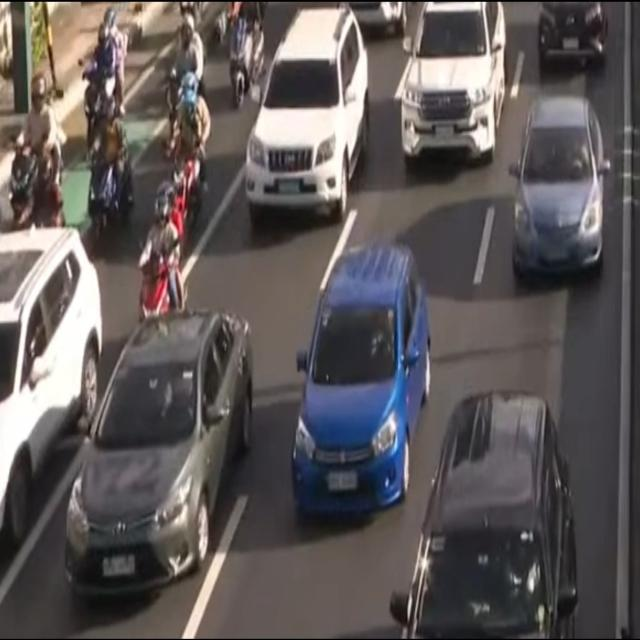Motorcycle: (6, 65, 62, 245), (77, 8, 129, 150), (165, 82, 211, 228), (87, 89, 131, 241), (139, 188, 183, 330), (162, 19, 206, 151), (226, 0, 262, 110)
SUV: (392, 391, 582, 640), (0, 225, 99, 547), (247, 11, 368, 220), (400, 0, 508, 163)
Sedan: (63, 316, 254, 586), (291, 244, 430, 526), (511, 101, 603, 274), (532, 0, 612, 76)
